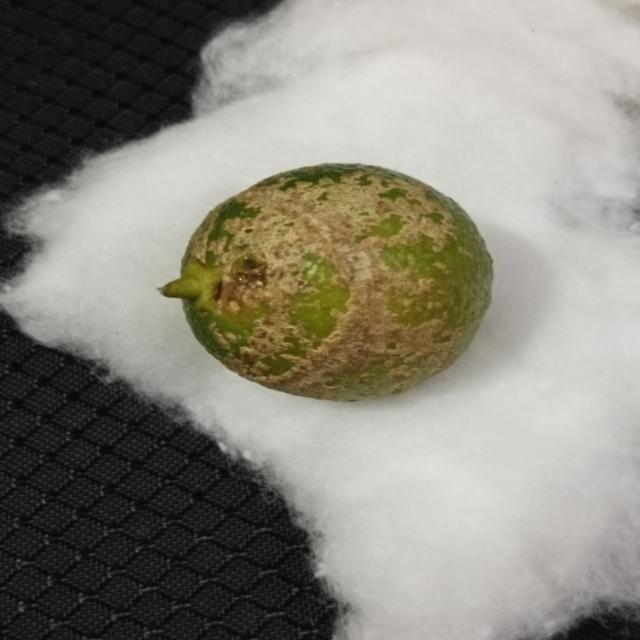thrips: (175, 161, 496, 403)
